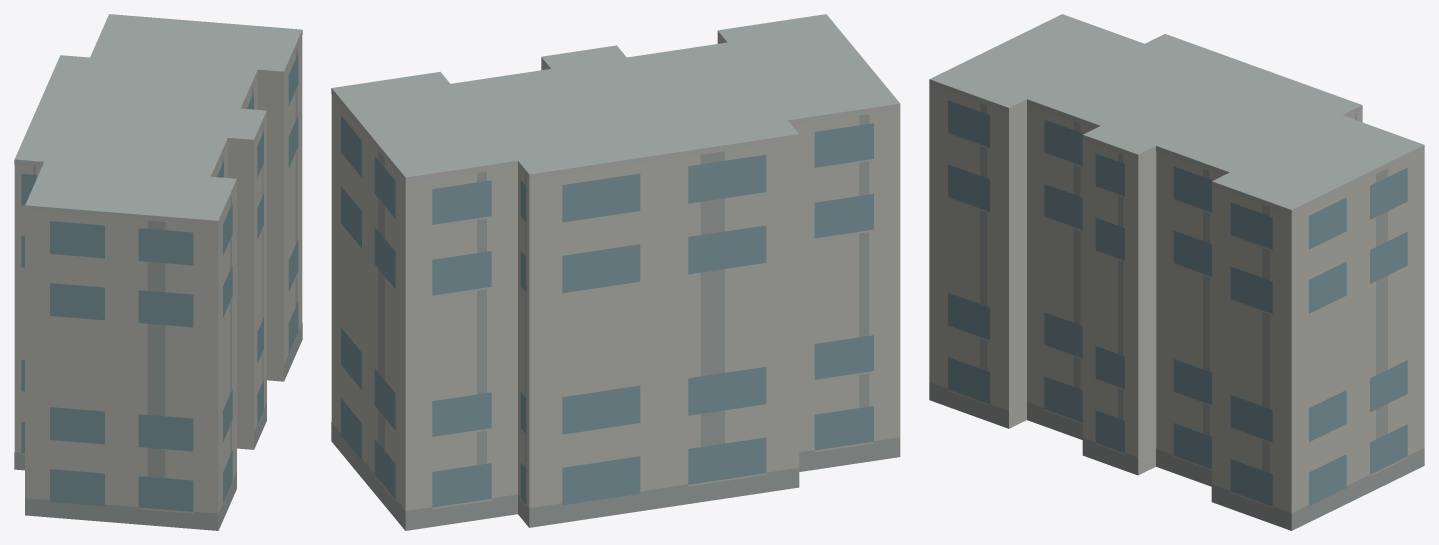
File: survey-upis-32605913.glb
3 renders of one model, left to right at view 1: azimuth 30°, elevation 25°; view 2: azimuth 150°, elevation 25°; view 3: azimuth 270°, elevation 25°, orthographic. The views are drawn at different scales.
Visible parts, largest first — view 1: survey-upis-32605913.tmp; view 2: survey-upis-32605913.tmp; view 3: survey-upis-32605913.tmp.
Part boxes in pixels (box(x1,y1,x2,y2)): survey-upis-32605913.tmp: box(14, 14, 302, 530); survey-upis-32605913.tmp: box(331, 14, 900, 530); survey-upis-32605913.tmp: box(929, 14, 1424, 530).
Bounding box in the file's own units: 18.88 × 14.4 × 20.15.
